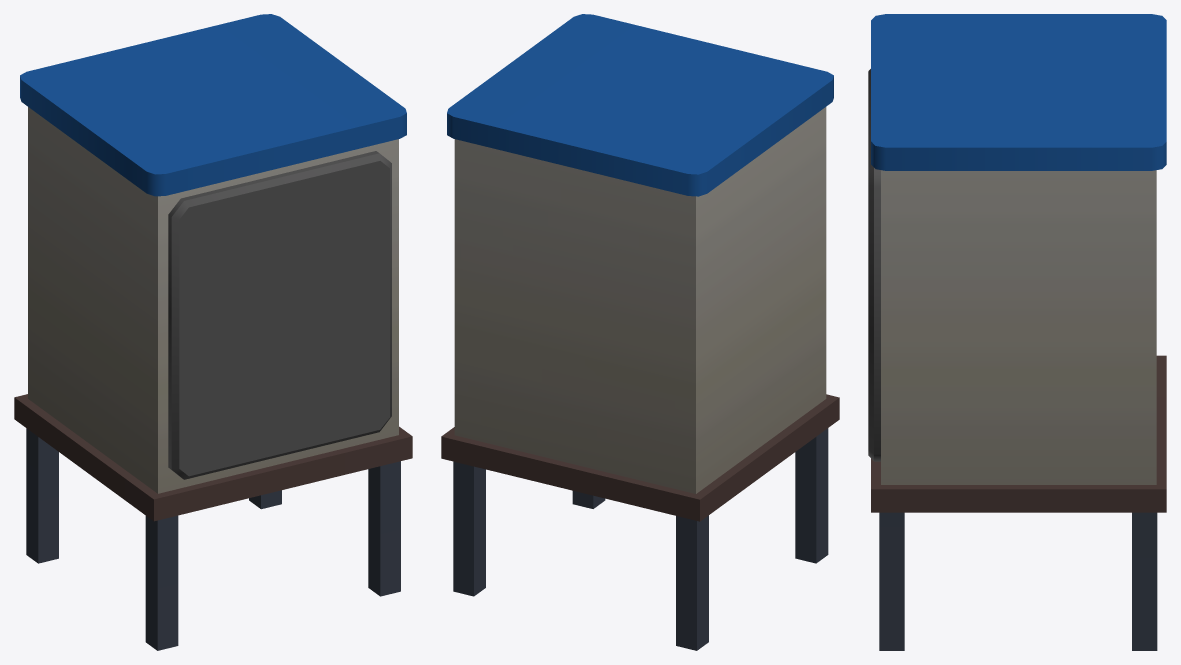
File: ElectricBox_1_B.fbx
The picture shows the model from 3 angles, left to right: view 1: azimuth 30°, elevation 25°; view 2: azimuth 150°, elevation 25°; view 3: azimuth 270°, elevation 25°; orthographic projection. The views are drawn at different scales.
Visible parts, largest first — view 1: ElectricBox_1_B; view 2: ElectricBox_1_B; view 3: ElectricBox_1_B.
Boxes of the visible parts, <box> form: ElectricBox_1_B: <box>14,14,412,650</box>; ElectricBox_1_B: <box>441,14,839,650</box>; ElectricBox_1_B: <box>868,14,1166,650</box>.
Size of the model in its own units: 129 by 229 by 122.
